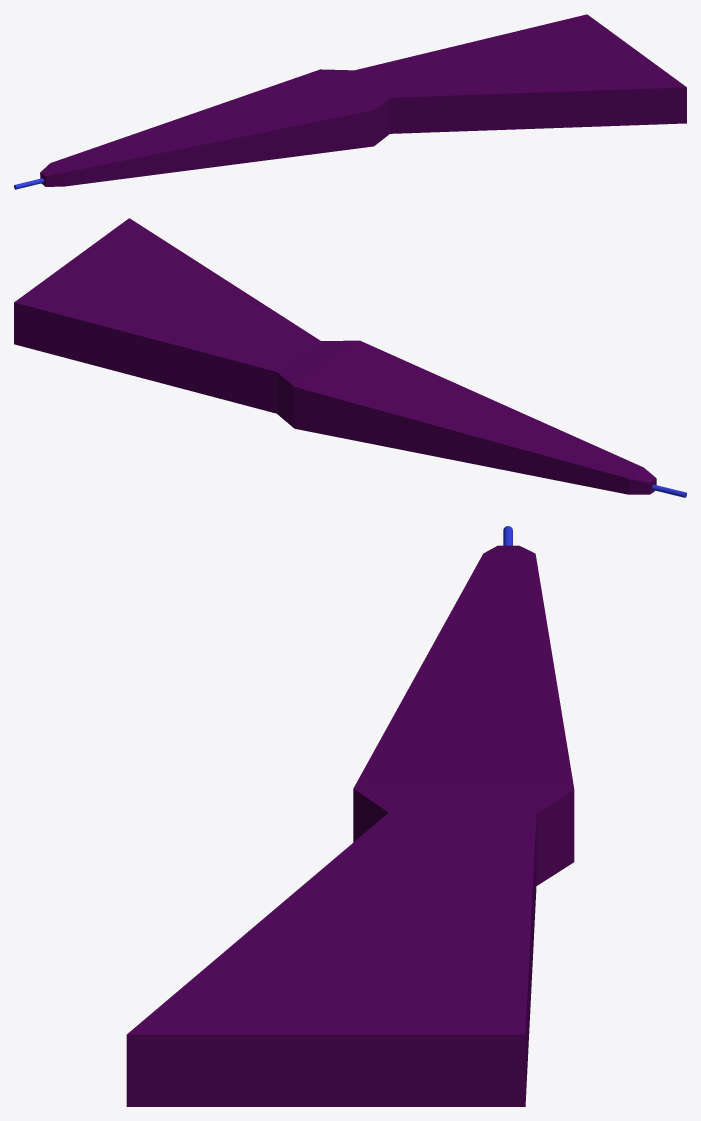
The model's file is weapon3.fbx.
3 renders of one model, top to bottom at view 1: azimuth 30°, elevation 25°; view 2: azimuth 150°, elevation 25°; view 3: azimuth 270°, elevation 25°, orthographic. The views are drawn at different scales.
Visible parts, largest first — view 1: Cube; view 2: Cube; view 3: Cube.
Boxes of the visible parts, <box> form: Cube: <box>14,14,686,189</box>; Cube: <box>14,218,686,497</box>; Cube: <box>126,526,574,1106</box>.
Bounding box in the file's own units: 174 × 11 × 58.62.
